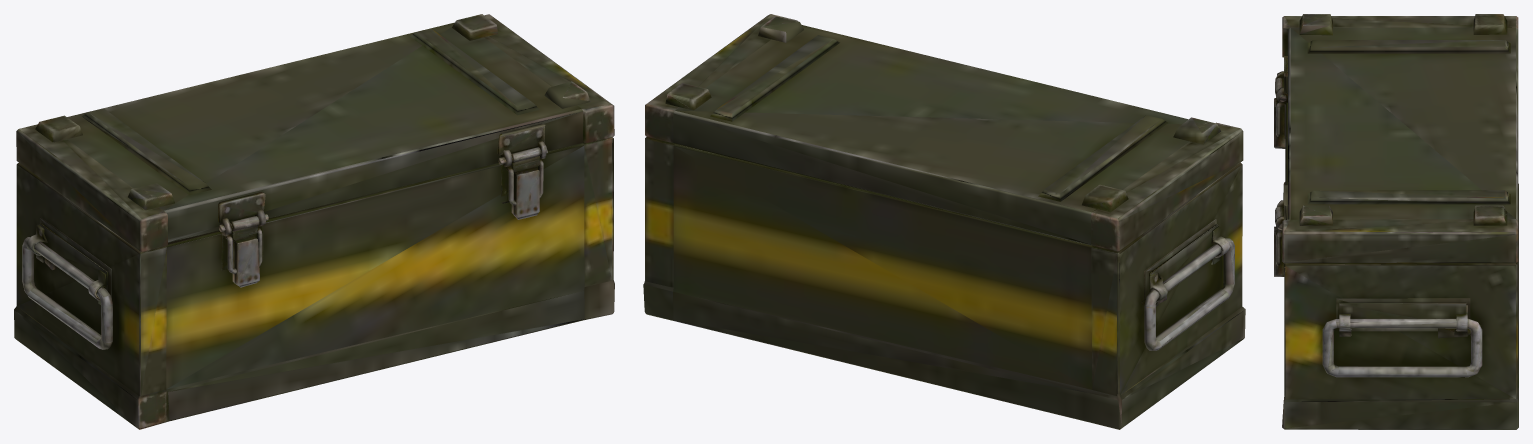
File: ammo_crate.glb
3 views of the same model, side by side, from view 1: azimuth 30°, elevation 25°; view 2: azimuth 150°, elevation 25°; view 3: azimuth 270°, elevation 25° (orthographic). The views are drawn at different scales.
Visible parts, largest first — view 1: geometry_0; view 2: geometry_0; view 3: geometry_0.
Boxes of the visible parts, bbox=[...] form: geometry_0: bbox=[14, 14, 614, 429]; geometry_0: bbox=[643, 14, 1245, 429]; geometry_0: bbox=[1274, 14, 1518, 429].
Bounding box in the file's own units: 0.9502 × 0.3921 × 0.4219.
1 material, 1 textured.
